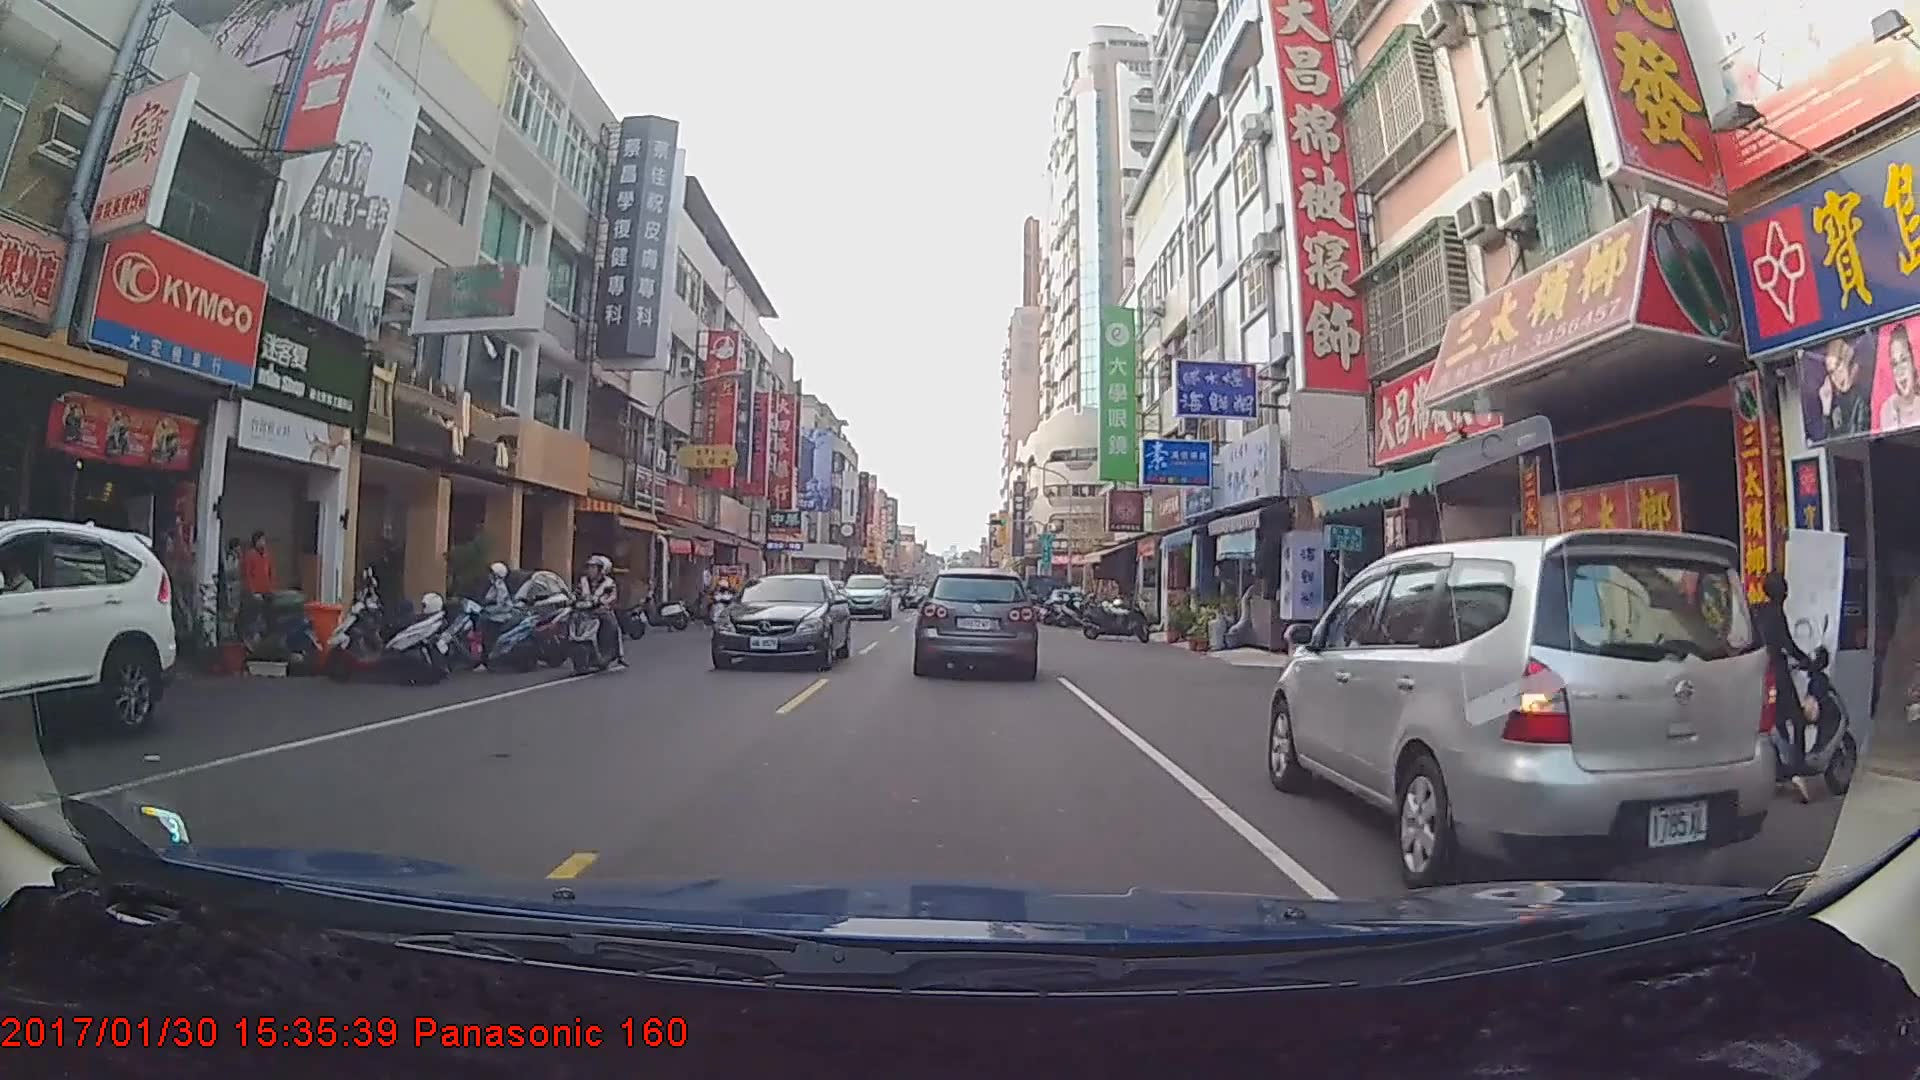pedestrian: (237, 525, 284, 640), (215, 527, 245, 634)
rider: (1661, 563, 1879, 811), (562, 548, 628, 678)
vehicle: (1266, 530, 1777, 889), (0, 516, 177, 762), (712, 571, 849, 672), (916, 569, 1037, 677), (839, 572, 892, 619)
